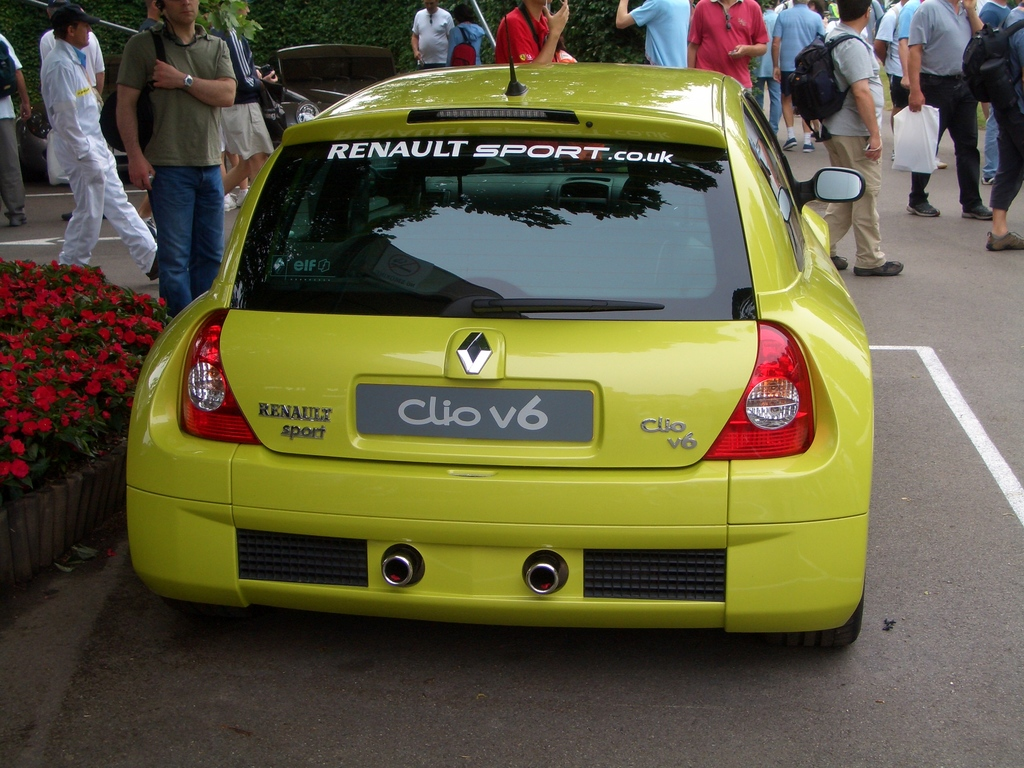Person: (0, 0, 1024, 278)
